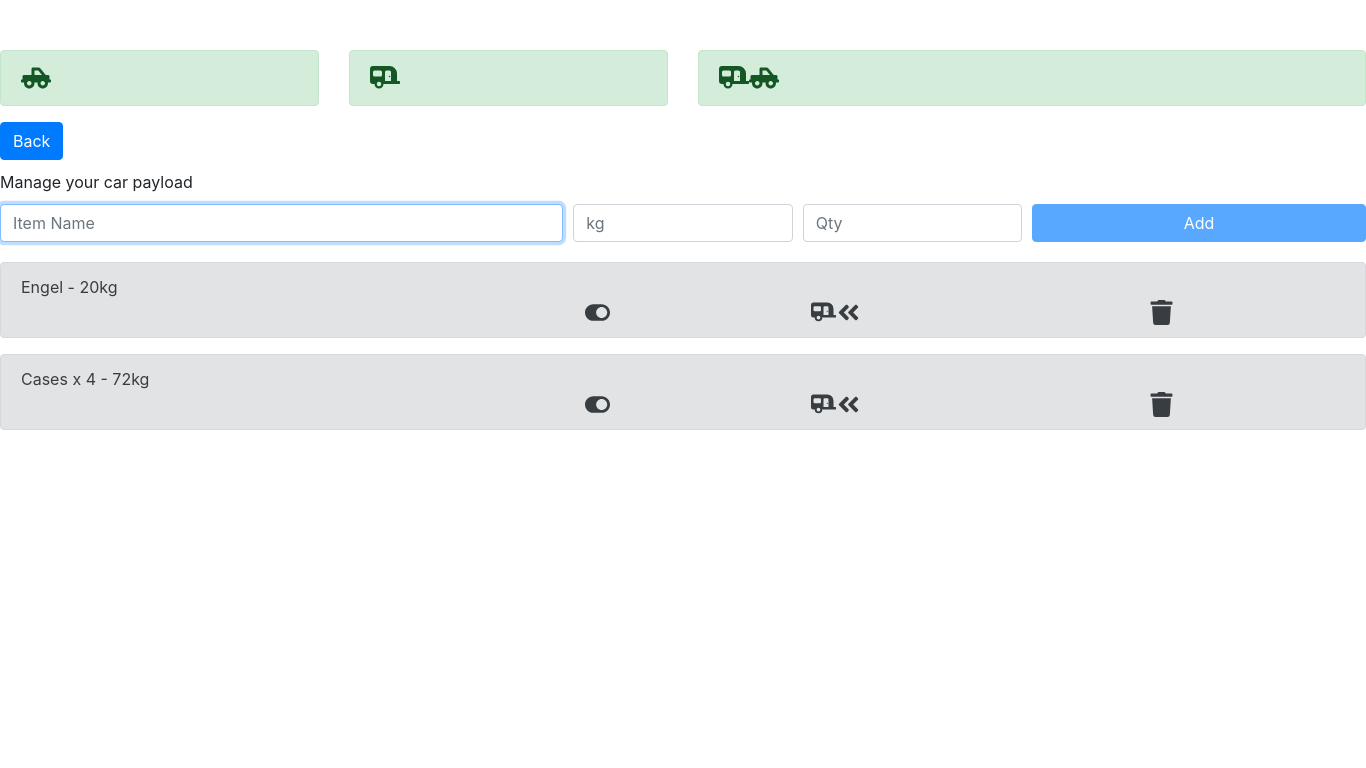
Test: deletes a load item when the delete button is pressed
Expected: the text "Engel - 20kg" is shown, [21,277,118,297]
What coordinates should you click on to do the following:
click the icon with test id "delete-load-Engel1"
I would click on:
 (1162, 313)
Its box is [1149,300,1174,325].
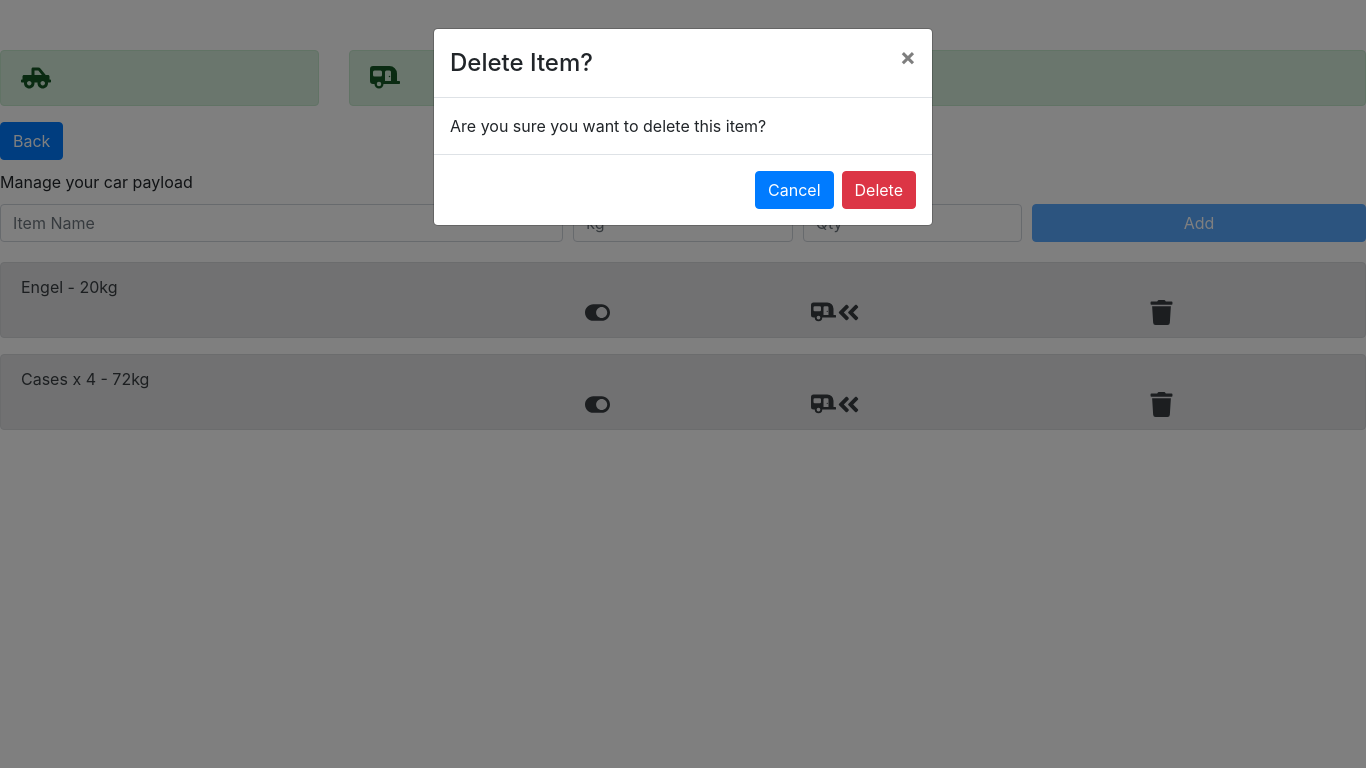
confirm on the dialog
What coordinates should you click on to do the following:
click the button with test id "confirm-delete-button"
I would click on:
 (879, 190)
Its box is [842,171,916,209].
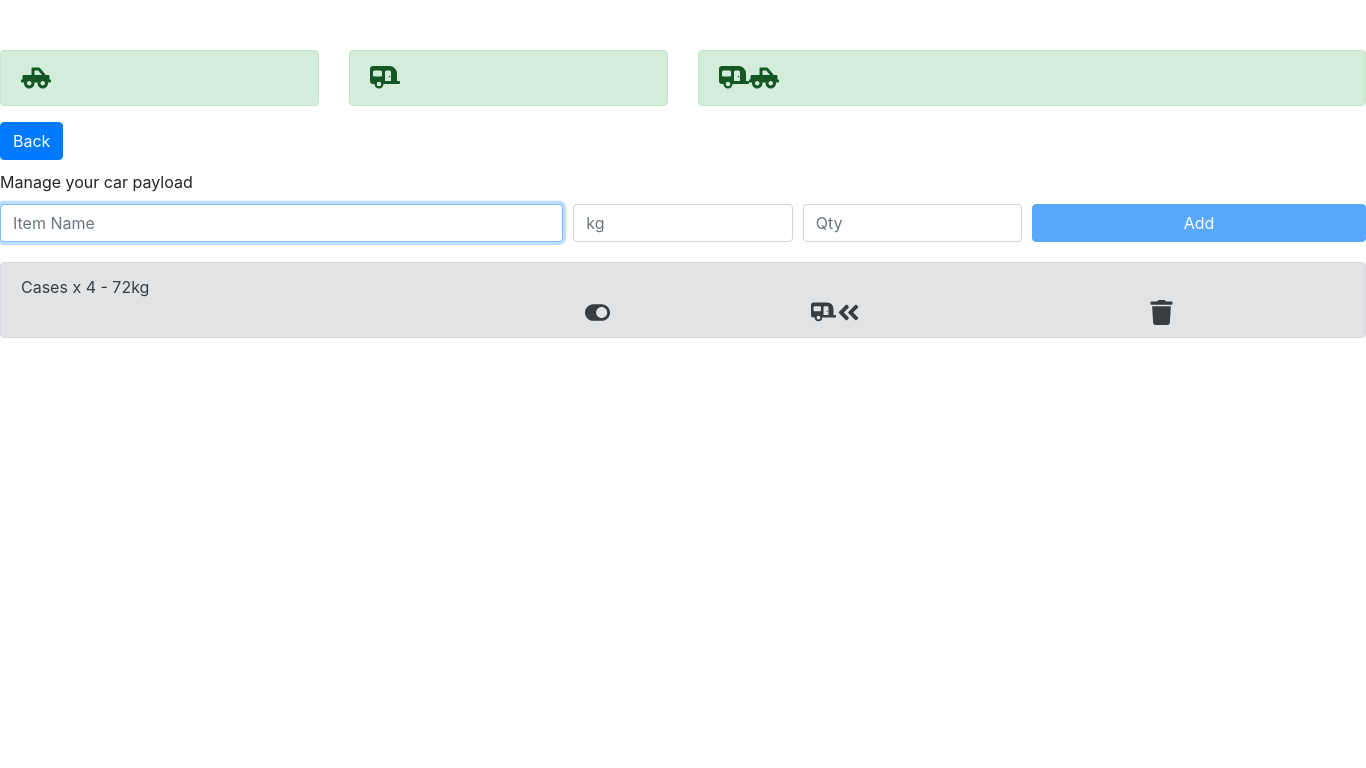
Result: the text "Engel" is gone
